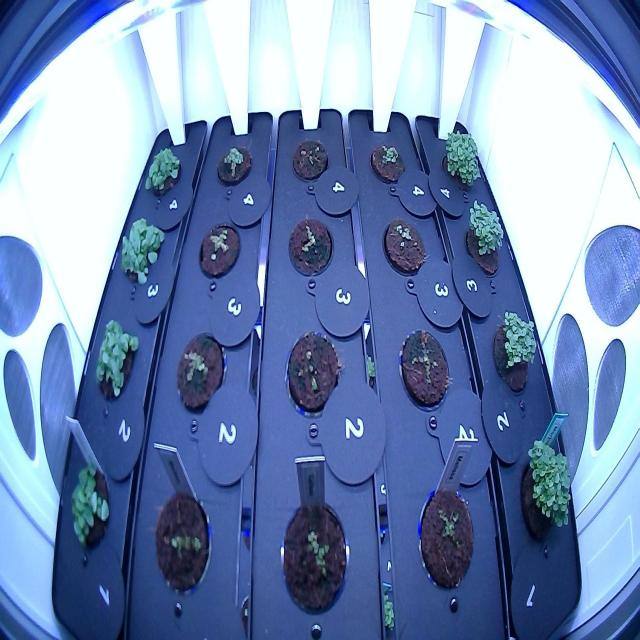germination: (275, 489, 352, 616), (413, 478, 477, 596), (152, 484, 214, 602), (283, 320, 345, 423), (394, 321, 453, 417), (173, 326, 230, 418), (286, 213, 334, 285), (378, 214, 430, 279), (196, 216, 243, 282), (290, 134, 330, 189), (366, 137, 408, 186), (214, 139, 253, 188)
